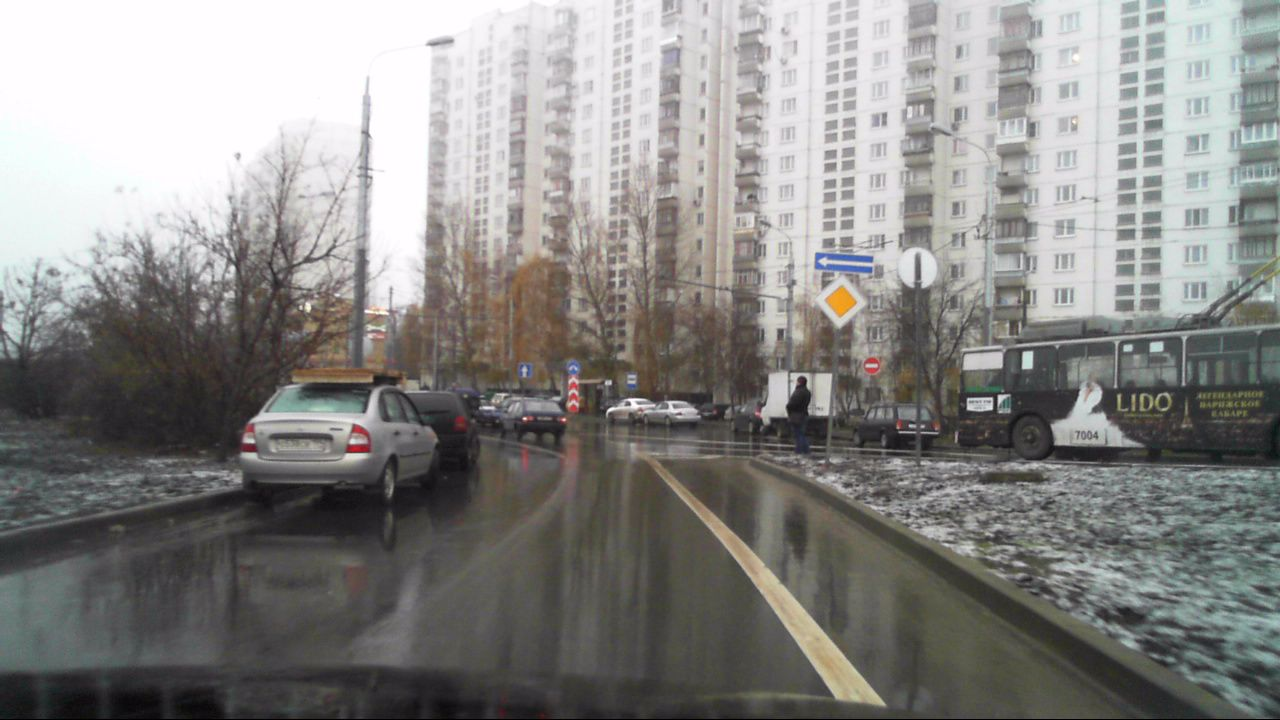One-Way Traffic: (815, 252, 874, 272)
